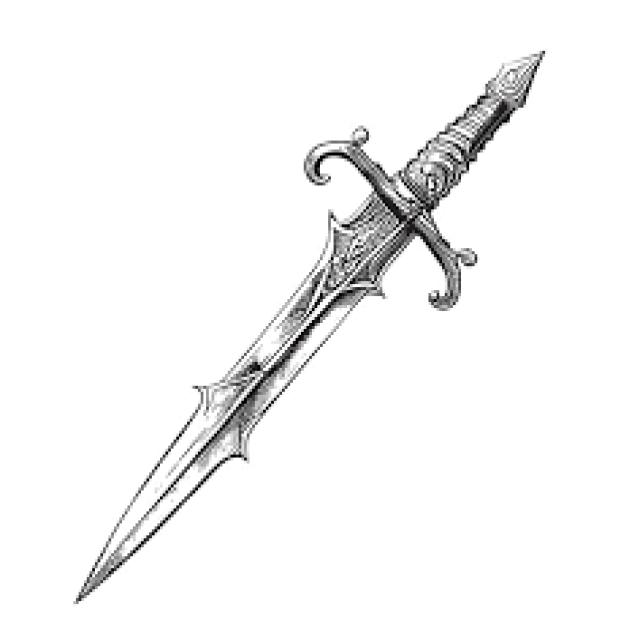Gun: (74, 49, 568, 608)
